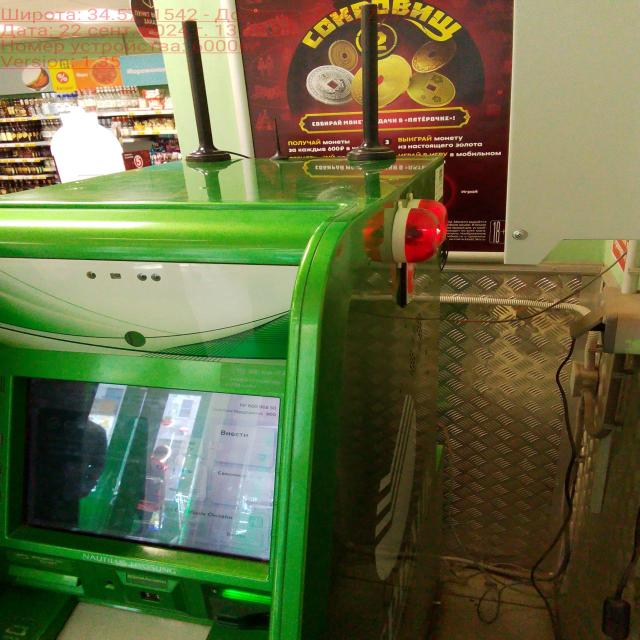bank: (0, 154, 452, 640)
